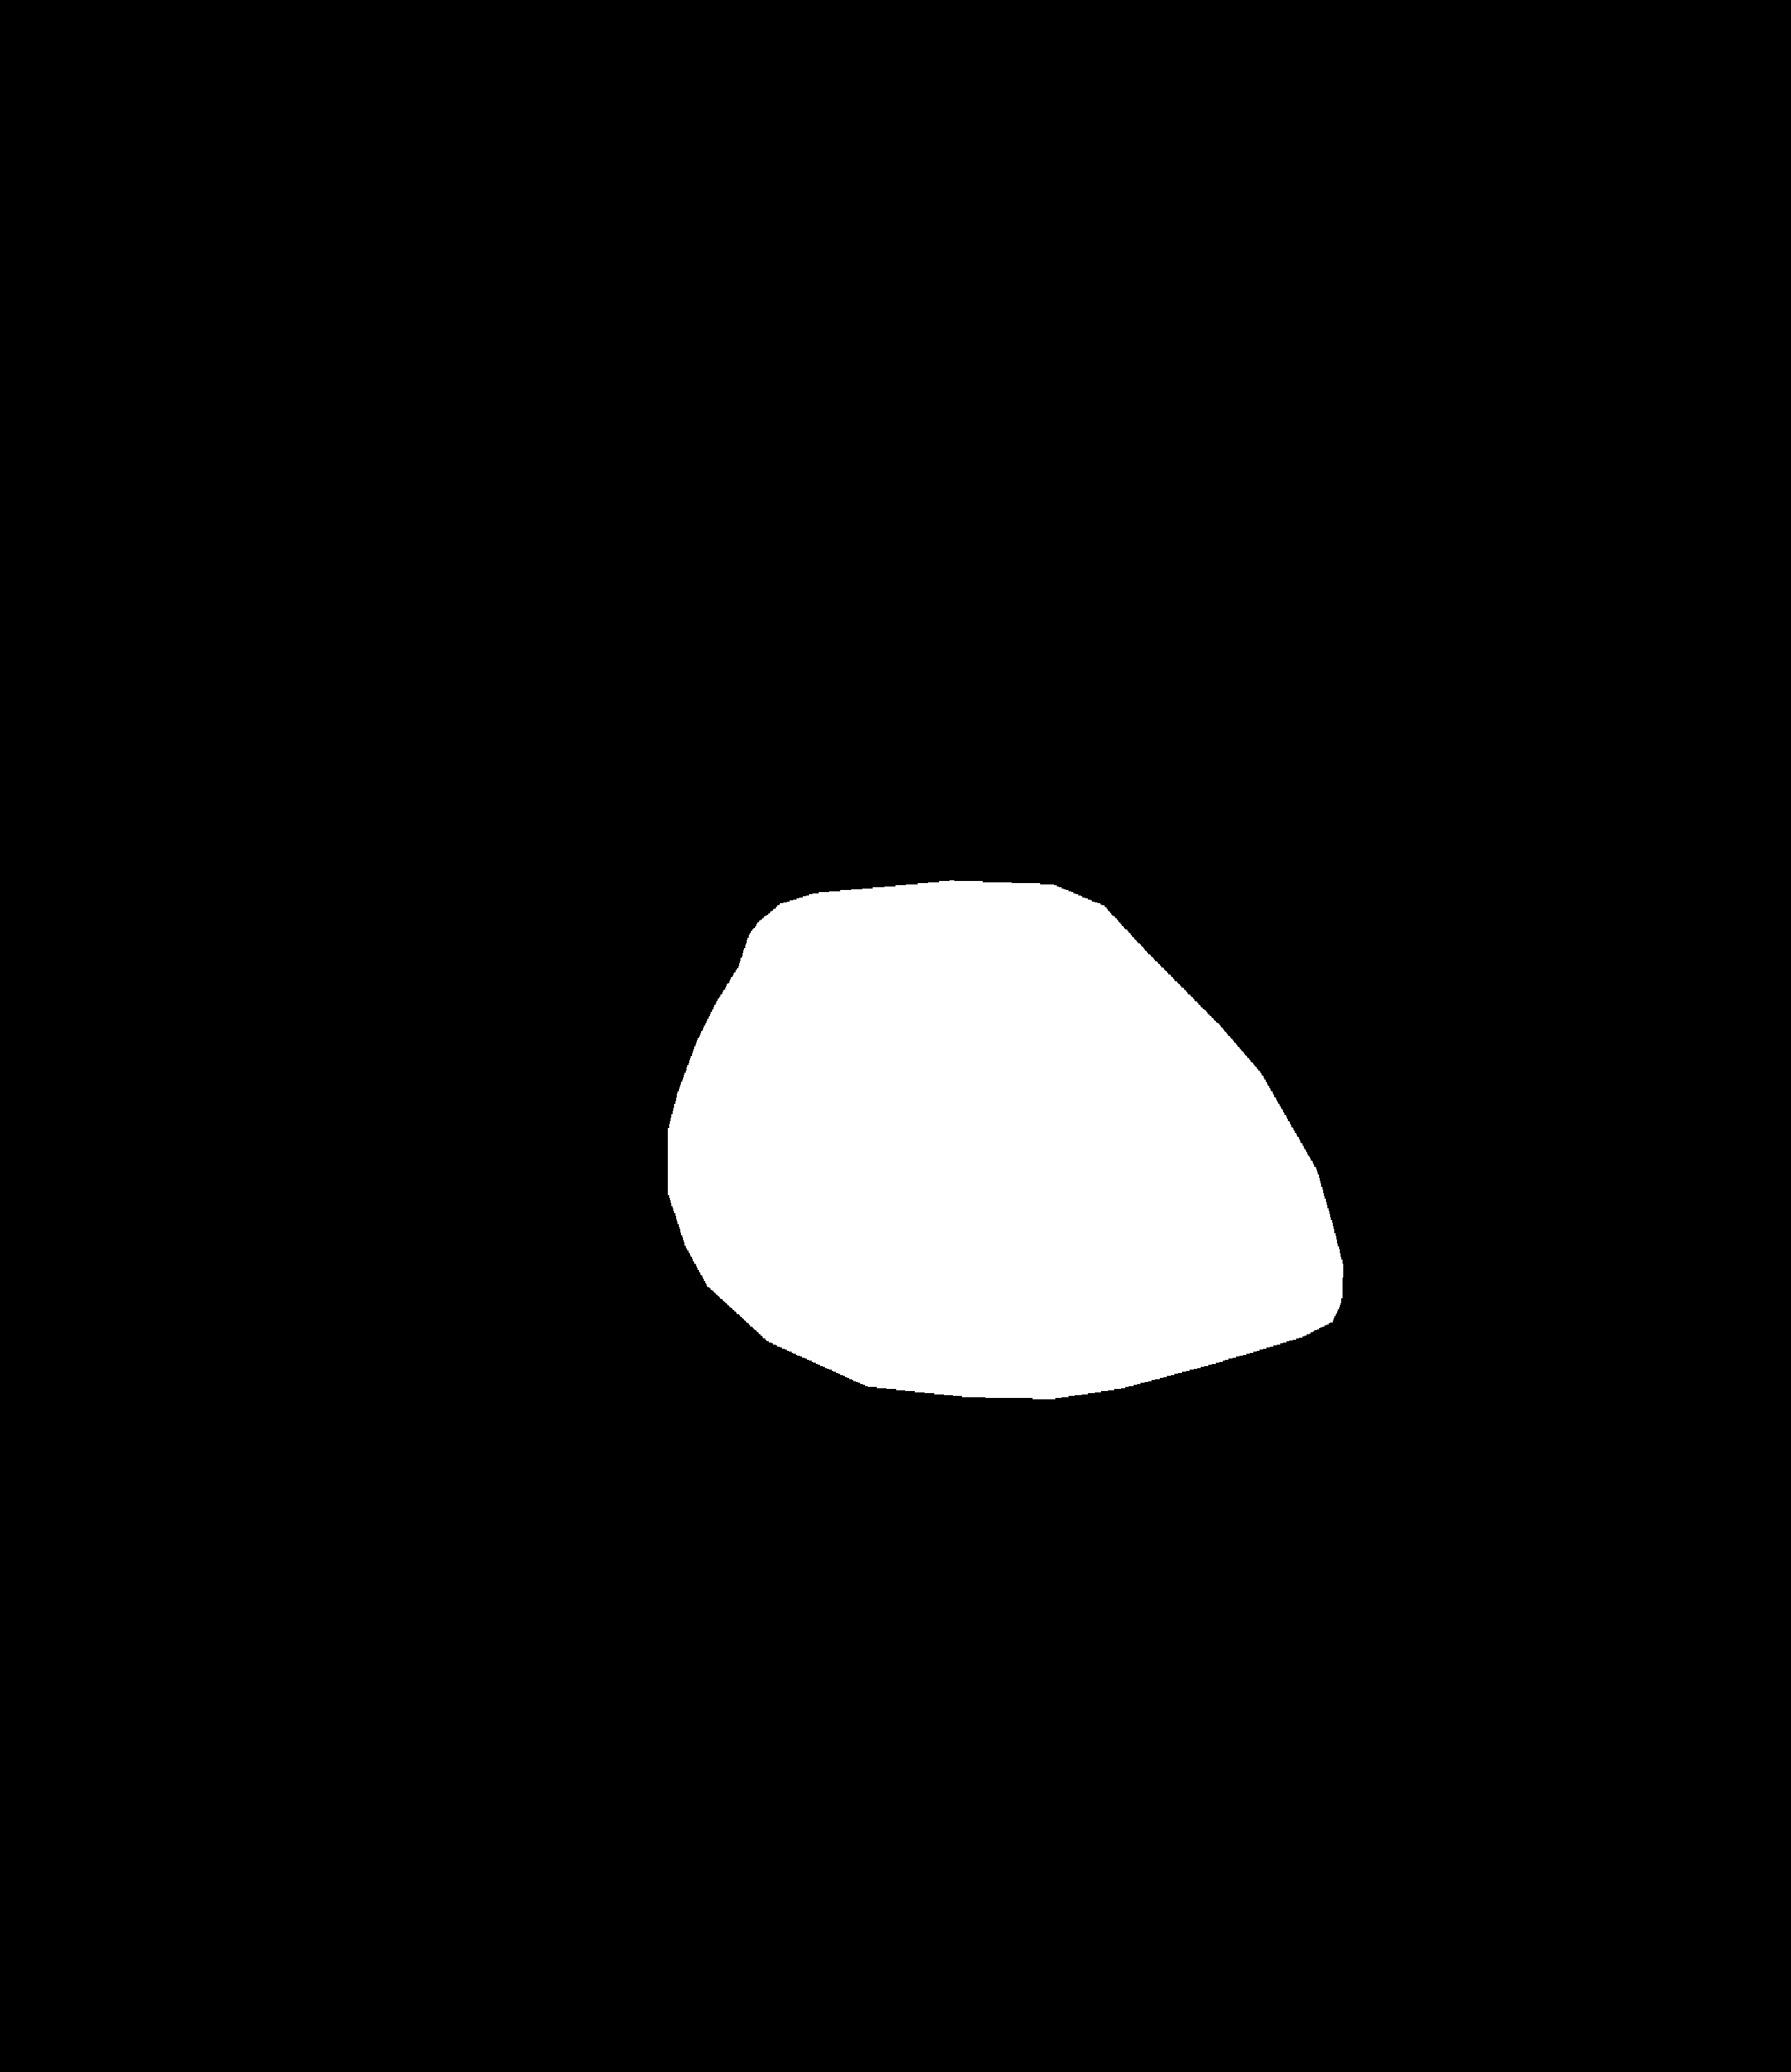heart: (669, 962, 1345, 1443)
left_lung: (247, 280, 824, 1432)
right_lung: (954, 273, 1559, 1452)
